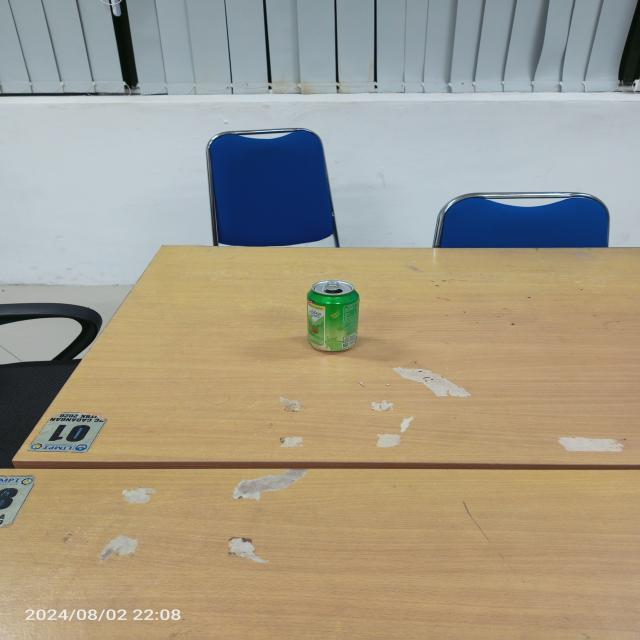ademsarikaleng: (307, 279, 359, 354)
